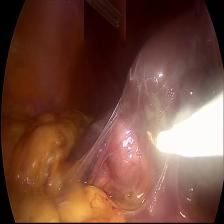Grasper: (84, 0, 126, 41)
Hook: (143, 82, 224, 170)
